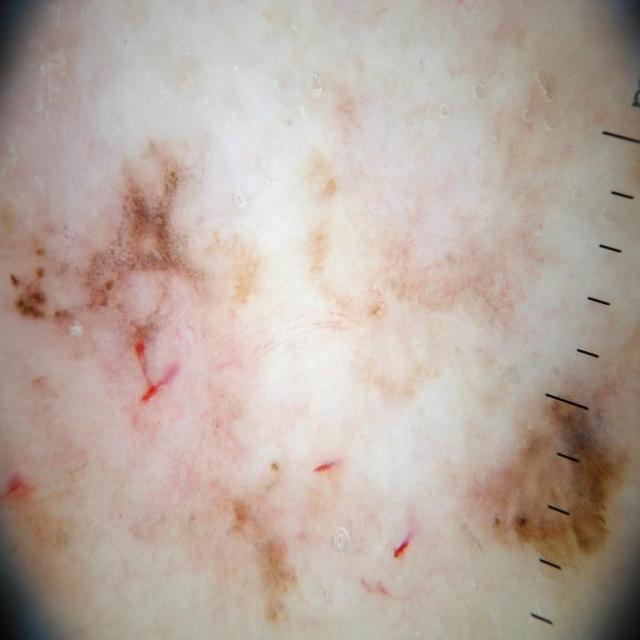Skin-Cancer Melanoma: (0, 6, 622, 640)
